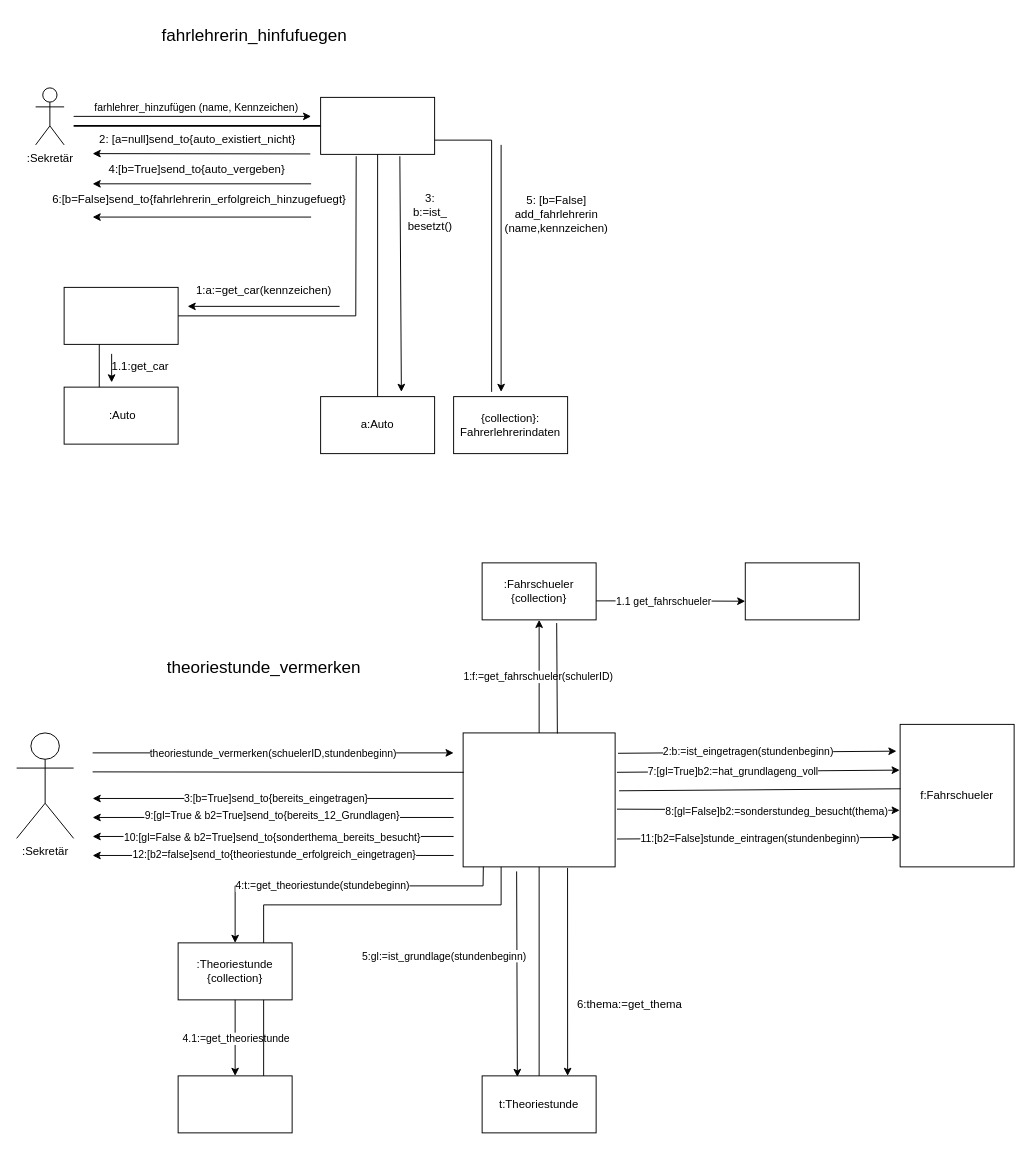
The diagram is 1031 pixels wide and 1150 high, and some of its shapes have lost their labels. The shapes that lost their labels are listed below. From the top down, each one's box as (x1, y1, x2, y2) in pixels, then its label:
(320, 96, 435, 154): :Resourcenverwaltung
(63, 286, 178, 344): {collection}:Auto
(744, 562, 859, 620): :Fahrschueler
(462, 732, 615, 867): :Unterrichtsverwaltung
(177, 1075, 292, 1133): :Theoriestunde
